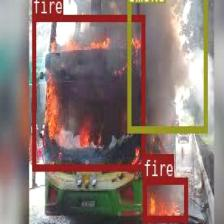fire: (32, 14, 144, 170), (142, 176, 187, 220)
smoke: (127, 0, 208, 131)
